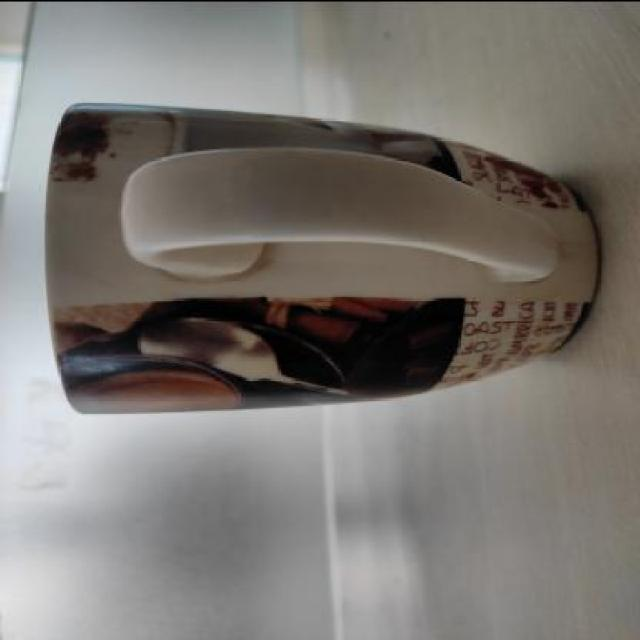cup: (38, 99, 590, 418)
